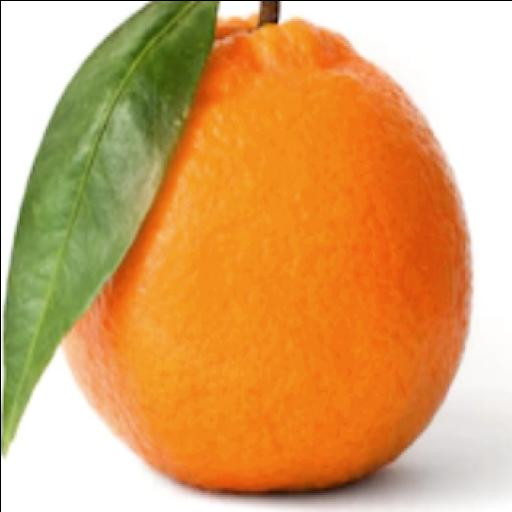orange: (65, 21, 470, 491)
